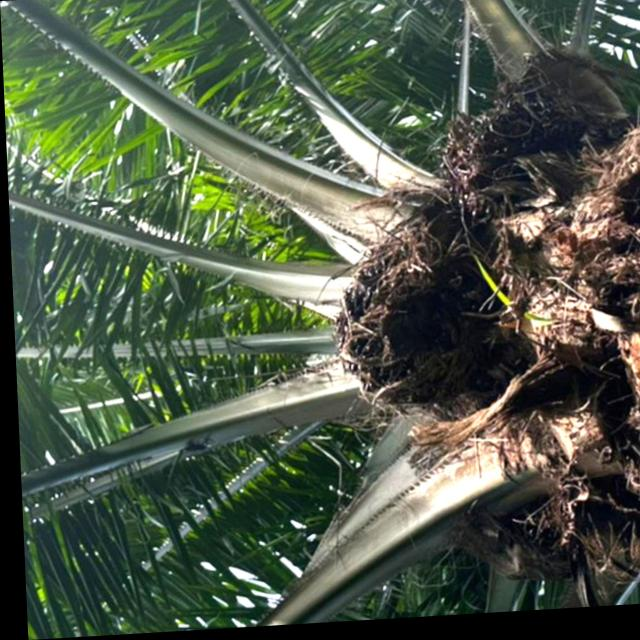unripe: (322, 229, 513, 424)
